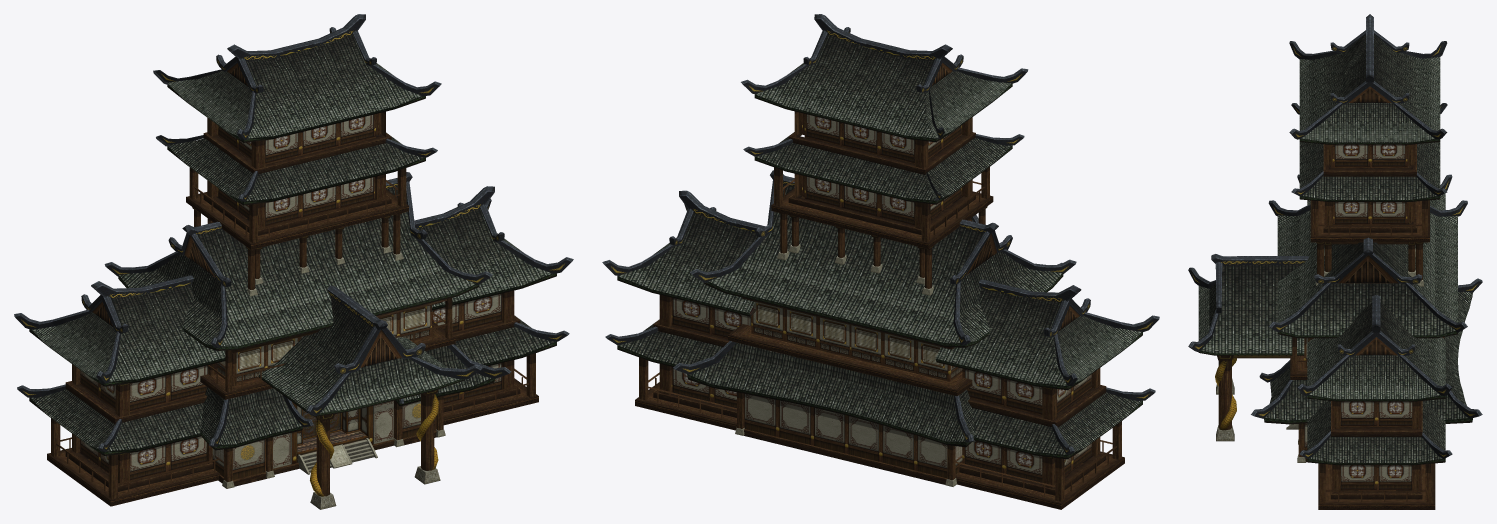
The model's file is guild_pvp_gate.fbx.
The picture shows the model from 3 angles, left to right: view 1: azimuth 30°, elevation 25°; view 2: azimuth 150°, elevation 25°; view 3: azimuth 270°, elevation 25°; orthographic projection. The views are drawn at different scales.
Parts seen in each view (by area): view 1: objObject323, objObject468, objObject469; view 2: objObject323, objObject468, objObject469; view 3: objObject323, objObject468, objObject469.
Part boxes in pixels (x1,y1,x2,y2): objObject323: (30, 34, 555, 451); objObject468: (14, 14, 573, 506); objObject469: (29, 63, 556, 509); objObject323: (617, 34, 1141, 454); objObject468: (602, 14, 1159, 509); objObject469: (617, 63, 1142, 501); objObject323: (1198, 34, 1472, 462); objObject468: (1188, 14, 1482, 509); objObject469: (1198, 86, 1472, 503).
Size of the model in its own units: 44.49 by 36.12 by 25.92.
